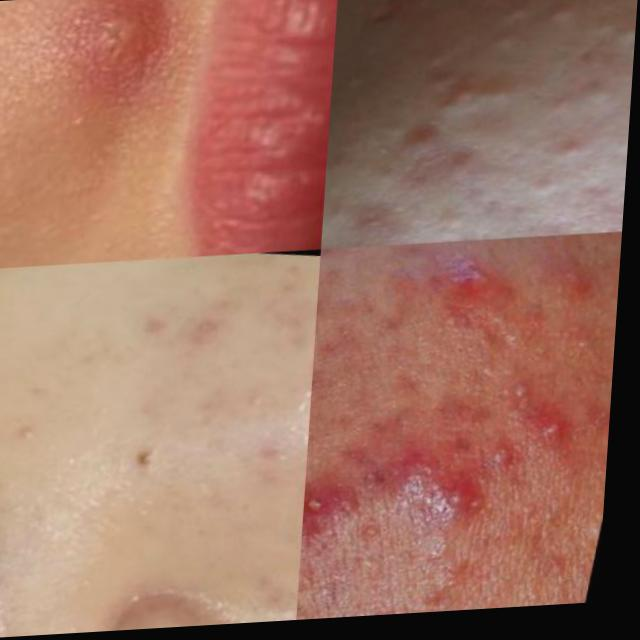8: (27, 0, 206, 131), (533, 257, 620, 327), (379, 454, 435, 516), (474, 217, 568, 246)
9: (536, 410, 576, 453), (310, 490, 337, 533)
blackheads: (134, 286, 238, 368), (413, 250, 526, 317), (419, 478, 495, 554), (262, 284, 323, 369), (498, 375, 548, 423)
